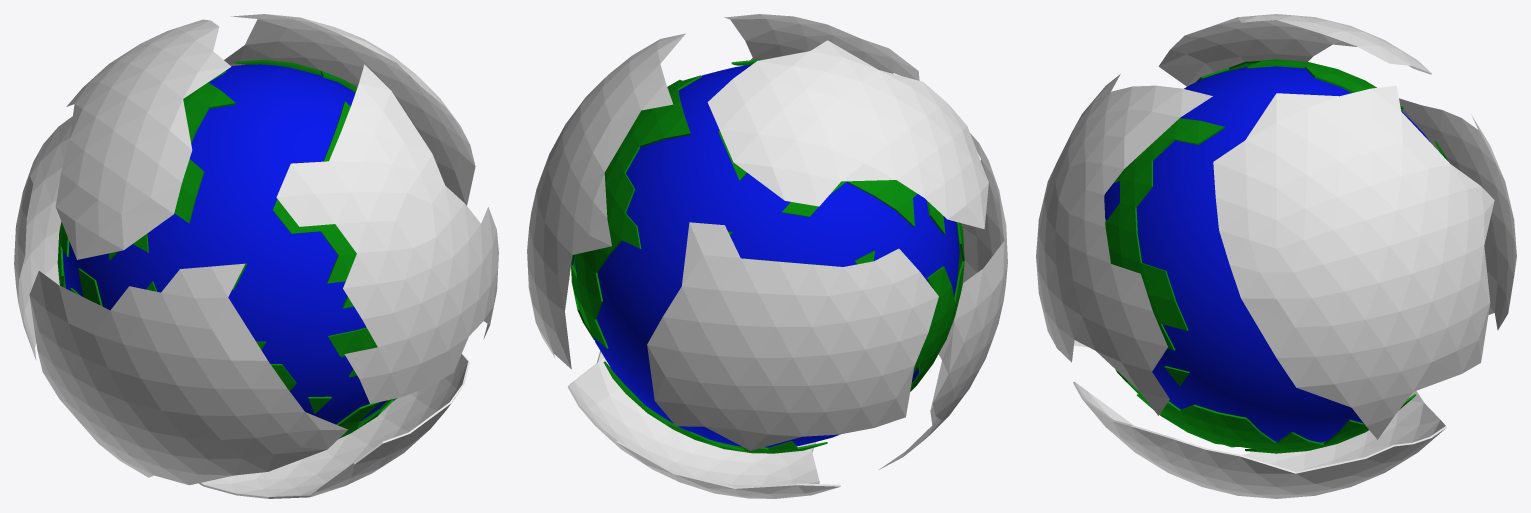
File: Planeta digital.fbx
3 views of the same model, side by side, from view 1: azimuth 30°, elevation 25°; view 2: azimuth 150°, elevation 25°; view 3: azimuth 270°, elevation 25° (orthographic).
Visible parts, largest first — view 1: Continente 2, Sphere, Continente 1, Continente 3, Continente 5, Continente 6, Icosphere, Continente 4; view 2: Continente 4, Sphere, Continente 3, Continente 5, Icosphere, Continente 6, Continente 2, Continente 1; view 3: Continente 5, Sphere, Continente 1, Continente 6, Icosphere, Continente 3, Continente 4.
Boxes of the visible parts, x1=… form: Continente 2: x1=29, y1=263, x2=347, y2=485; Sphere: x1=62, y1=64, x2=387, y2=424; Continente 1: x1=276, y1=64, x2=498, y2=403; Continente 3: x1=55, y1=19, x2=231, y2=259; Continente 5: x1=224, y1=14, x2=475, y2=205; Continente 6: x1=199, y1=354, x2=469, y2=498; Icosphere: x1=57, y1=59, x2=397, y2=438; Continente 4: x1=14, y1=116, x2=72, y2=360; Continente 4: x1=647, y1=222, x2=938, y2=450; Sphere: x1=575, y1=64, x2=959, y2=447; Continente 3: x1=707, y1=40, x2=988, y2=229; Continente 5: x1=527, y1=33, x2=685, y2=369; Icosphere: x1=571, y1=59, x2=964, y2=453; Continente 6: x1=568, y1=351, x2=840, y2=498; Continente 2: x1=879, y1=133, x2=1007, y2=469; Continente 1: x1=724, y1=14, x2=919, y2=80; Continente 5: x1=1213, y1=85, x2=1494, y2=439; Sphere: x1=1104, y1=66, x2=1430, y2=442; Continente 1: x1=1036, y1=74, x2=1212, y2=415; Continente 6: x1=1073, y1=381, x2=1446, y2=498; Icosphere: x1=1104, y1=59, x2=1449, y2=453; Continente 3: x1=1158, y1=14, x2=1431, y2=86; Continente 4: x1=1399, y1=98, x2=1516, y2=330.
Bounding box in the file's own units: 250 × 250 × 250.
